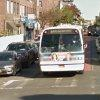Car: (1, 44, 22, 83)
